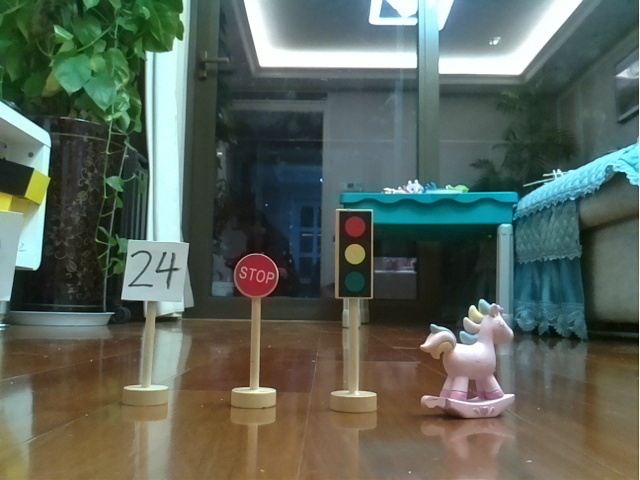Horse: (414, 295, 530, 423)
Red Traffic Light: (329, 199, 385, 419)
Speed Limit 24: (116, 232, 191, 413)
Stop Sign: (223, 248, 289, 415)
